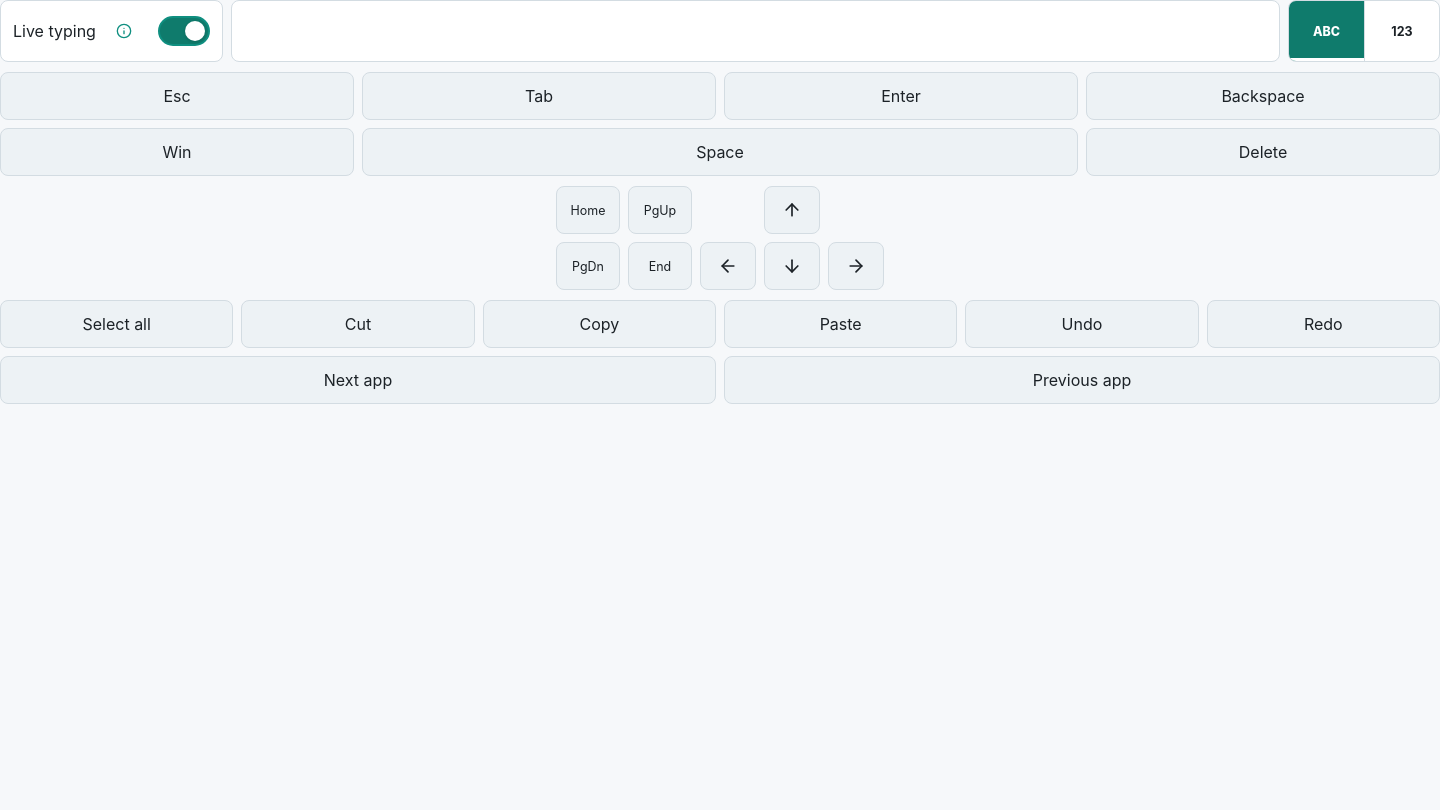
Test: KeyboardMode live typing › explains live typing and buffered send in a compact info dialog
The width and height of the screenshot is (1440, 810).
Click the button named "About Live typing" at (124, 31), box [102,9,146,53]
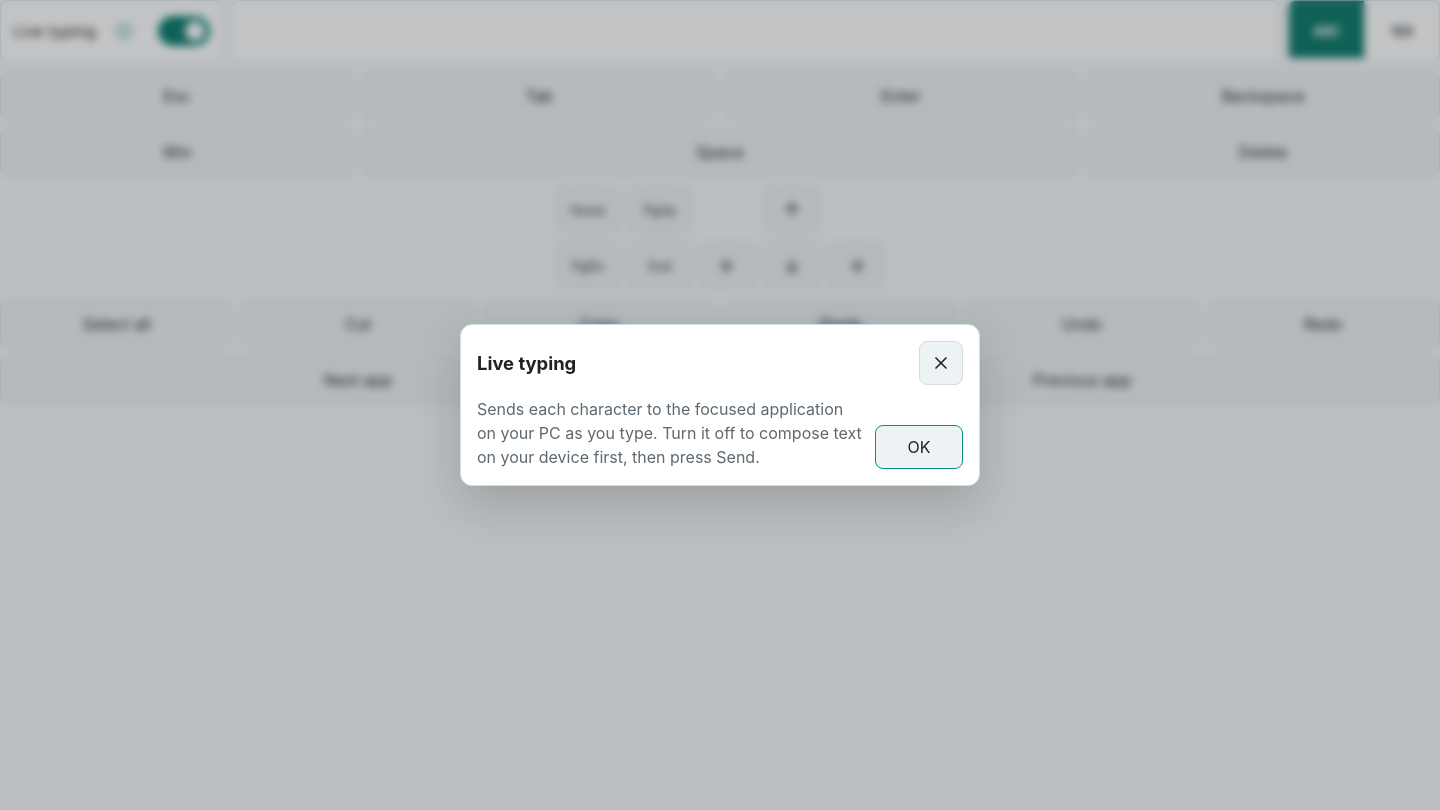
Now the dialog "Live typing" is shown, box [460,324,980,486]
Now the text "Sends each character to the focused application on your PC as you type. Turn it off to compose text on your device first" is shown, box [477,399,862,467]
